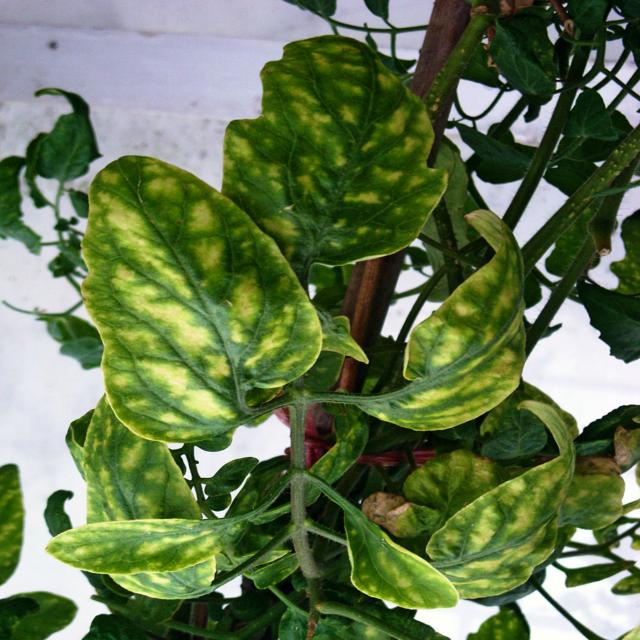Chlorosis: (74, 146, 376, 454)
